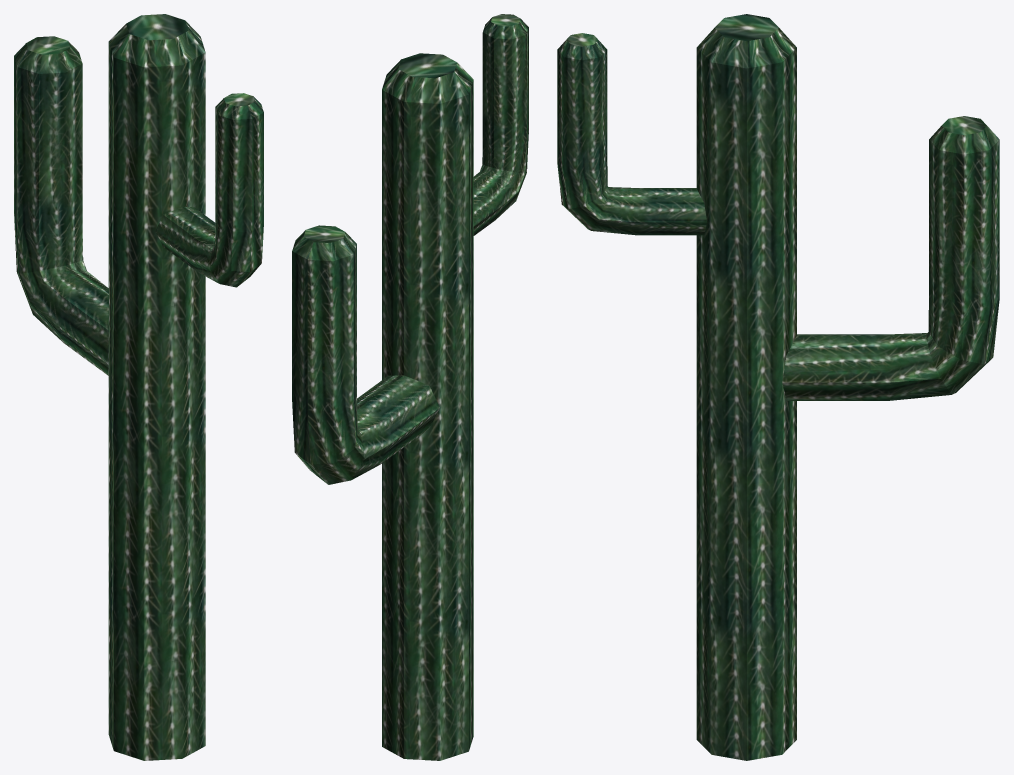
File: cactus_1.fbx
3 renders of one model, left to right at view 1: azimuth 30°, elevation 25°; view 2: azimuth 150°, elevation 25°; view 3: azimuth 270°, elevation 25°, orthographic. The views are drawn at different scales.
Parts seen in each view (by area): view 1: Cylinder; view 2: Cylinder; view 3: Cylinder.
Boxes of the visible parts, x1=… form: Cylinder: x1=14, y1=14, x2=263, y2=760; Cylinder: x1=292, y1=14, x2=528, y2=760; Cylinder: x1=557, y1=14, x2=999, y2=760.
Size of the model in its own units: 80.51 by 632 by 356.
Materials: 1 (1 with a texture image).
